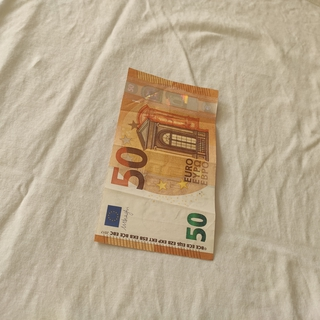50EUROFront: (92, 65, 220, 262)
